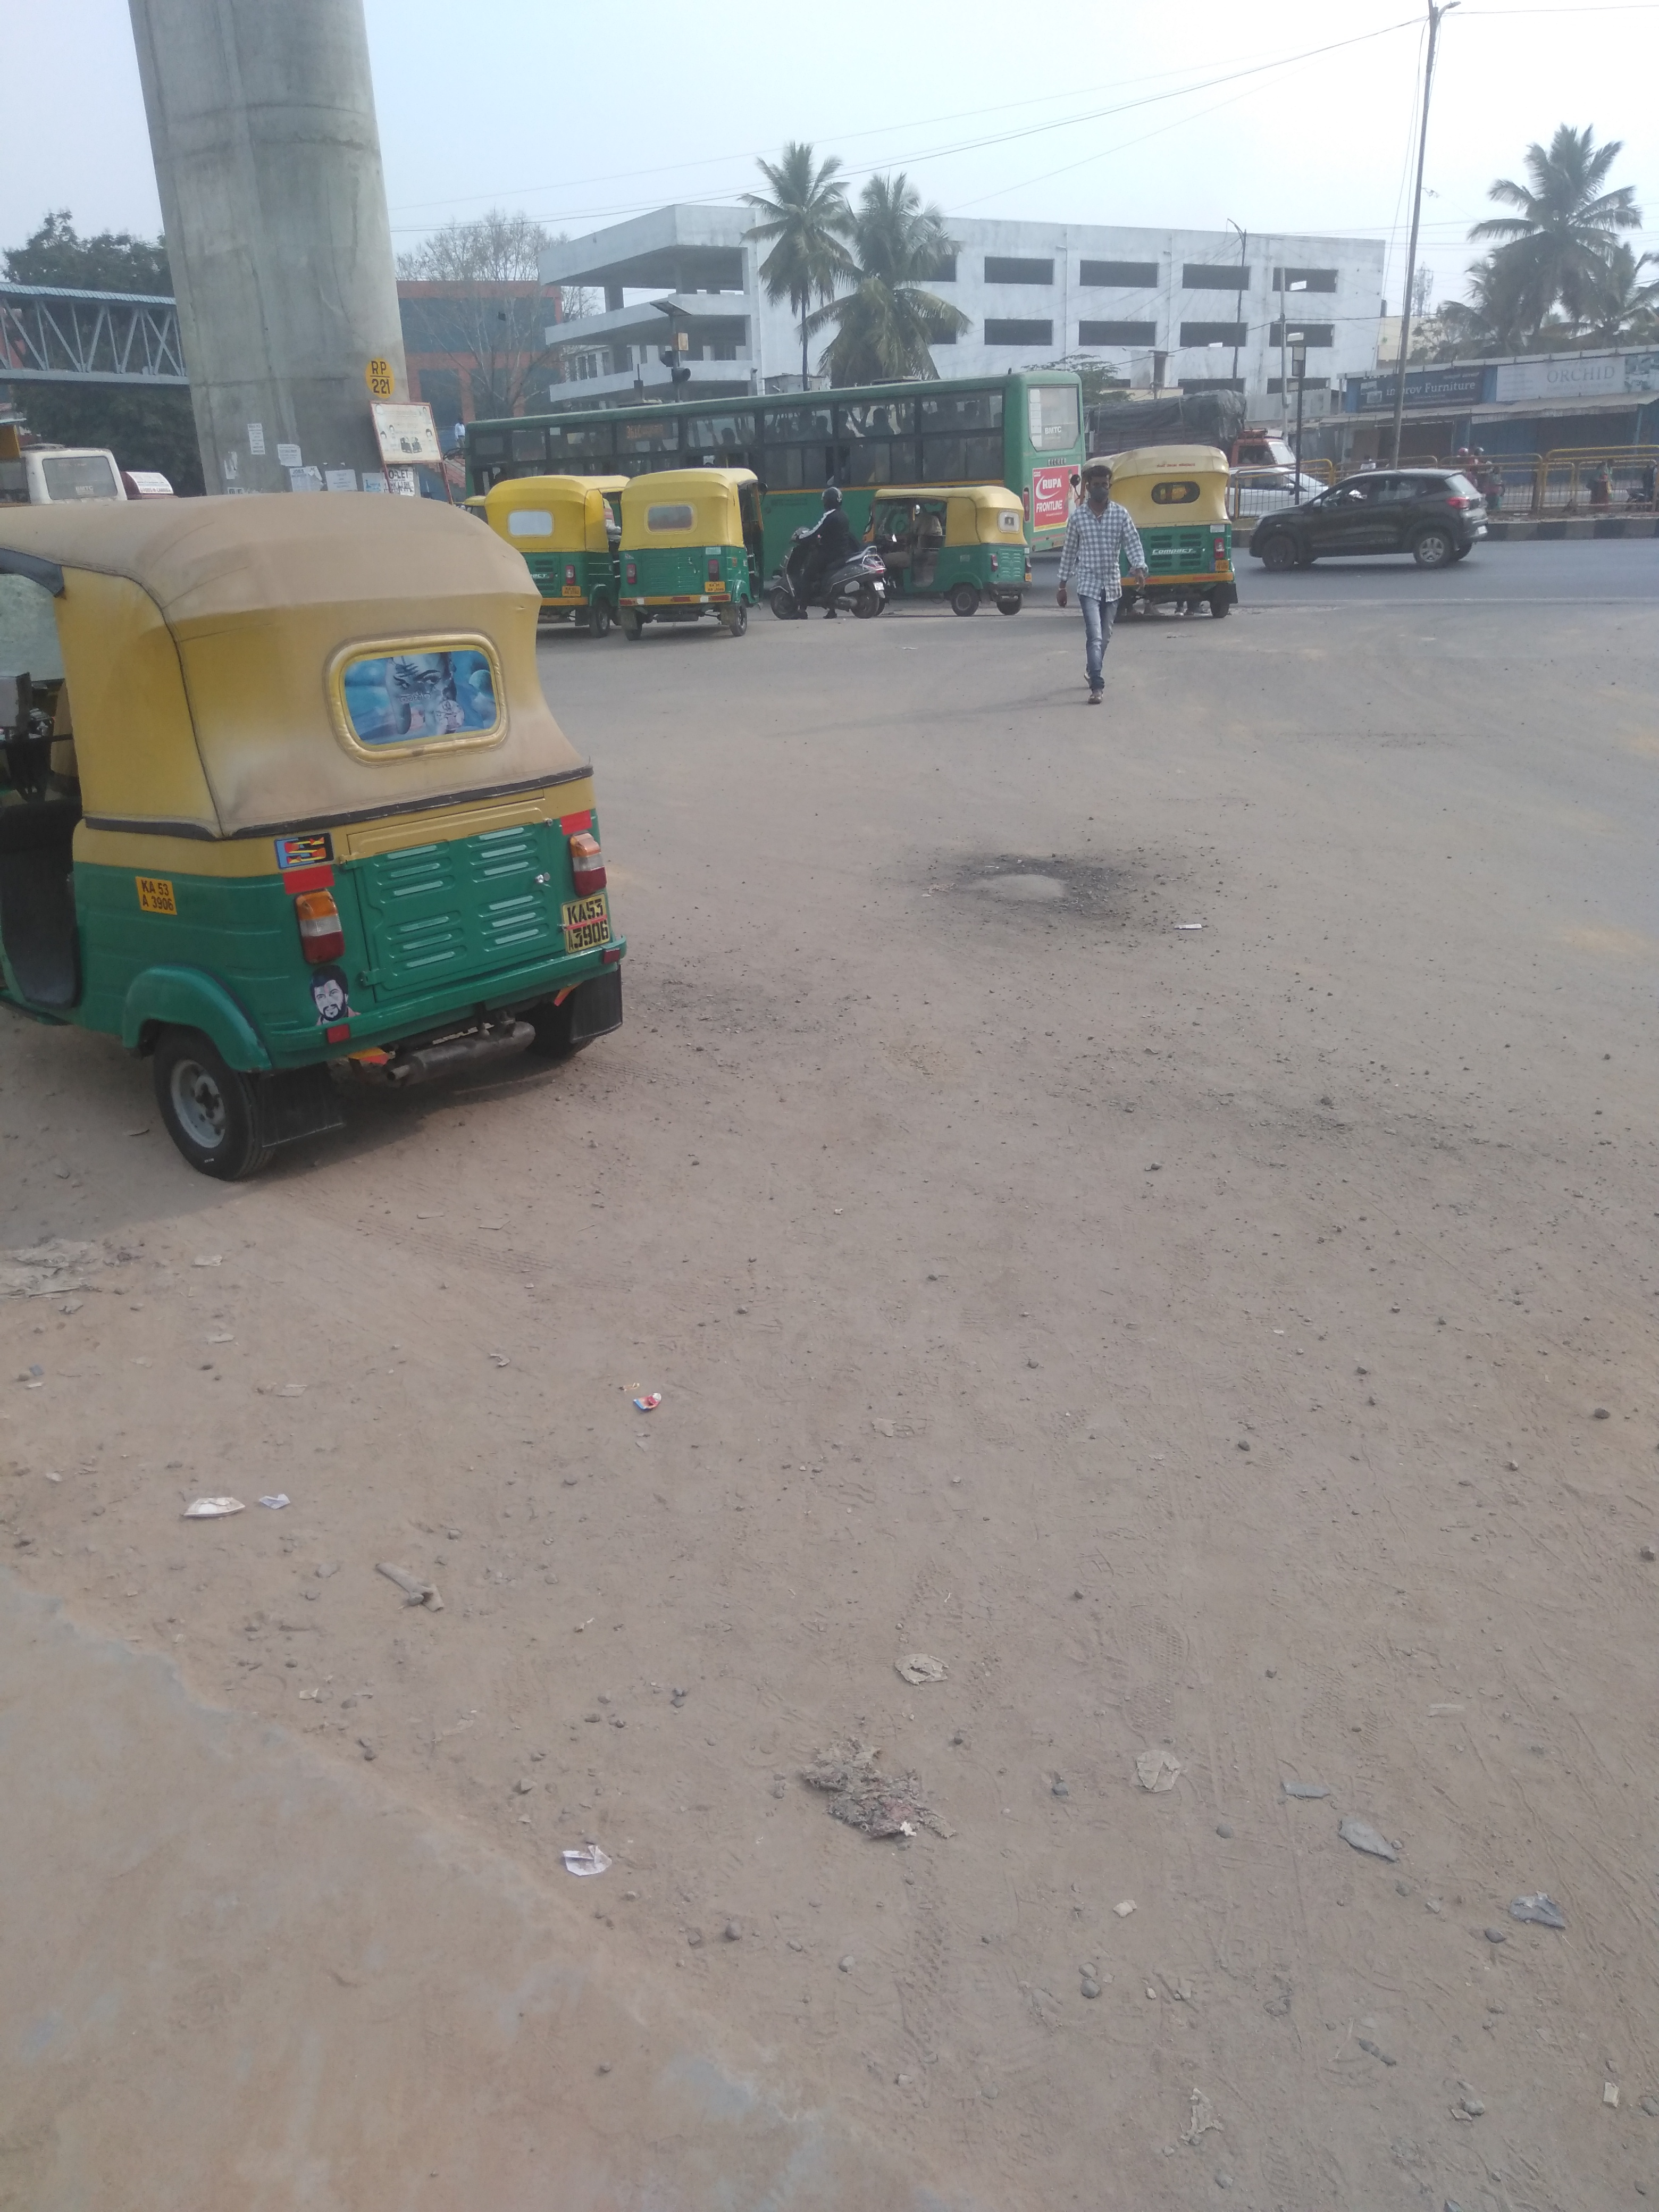auto: (0, 495, 631, 1177), (1084, 446, 1239, 618), (617, 467, 772, 636), (481, 475, 629, 639), (863, 484, 1032, 617)
bus: (462, 373, 1084, 554), (0, 444, 124, 510)
car: (1249, 469, 1488, 566), (1229, 465, 1359, 517)
two_wheelers: (769, 526, 887, 618)
vehicle_truck: (1082, 390, 1303, 470)
